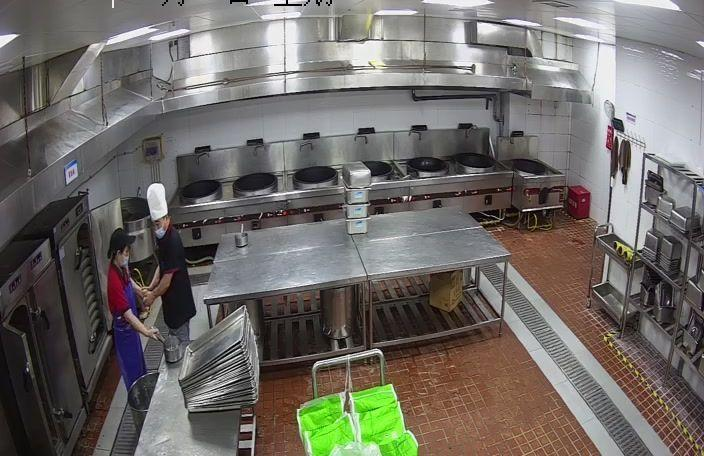mask: (150, 222, 168, 240)
